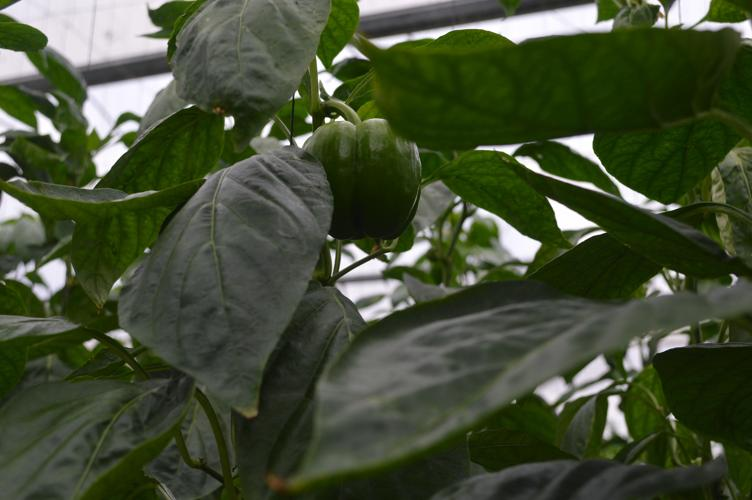BellPepper: (305, 118, 426, 239)
